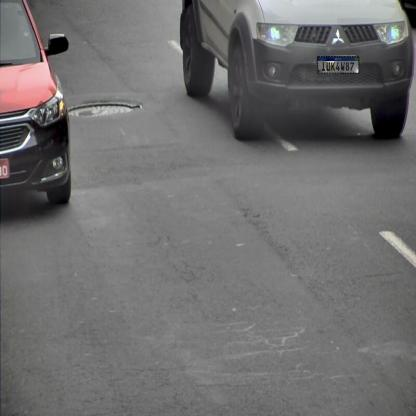PlacaM: (318, 56, 360, 74)
